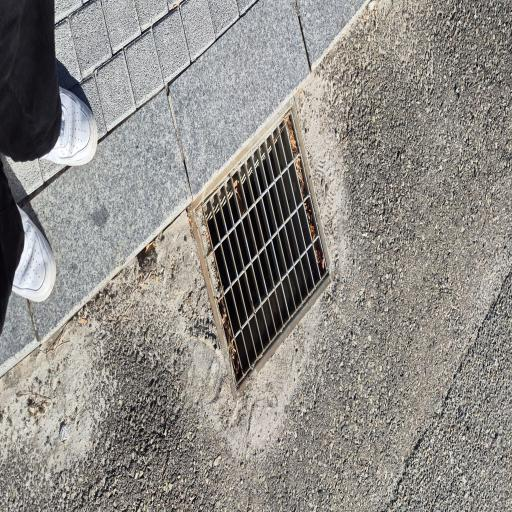drain: (202, 116, 327, 386)
